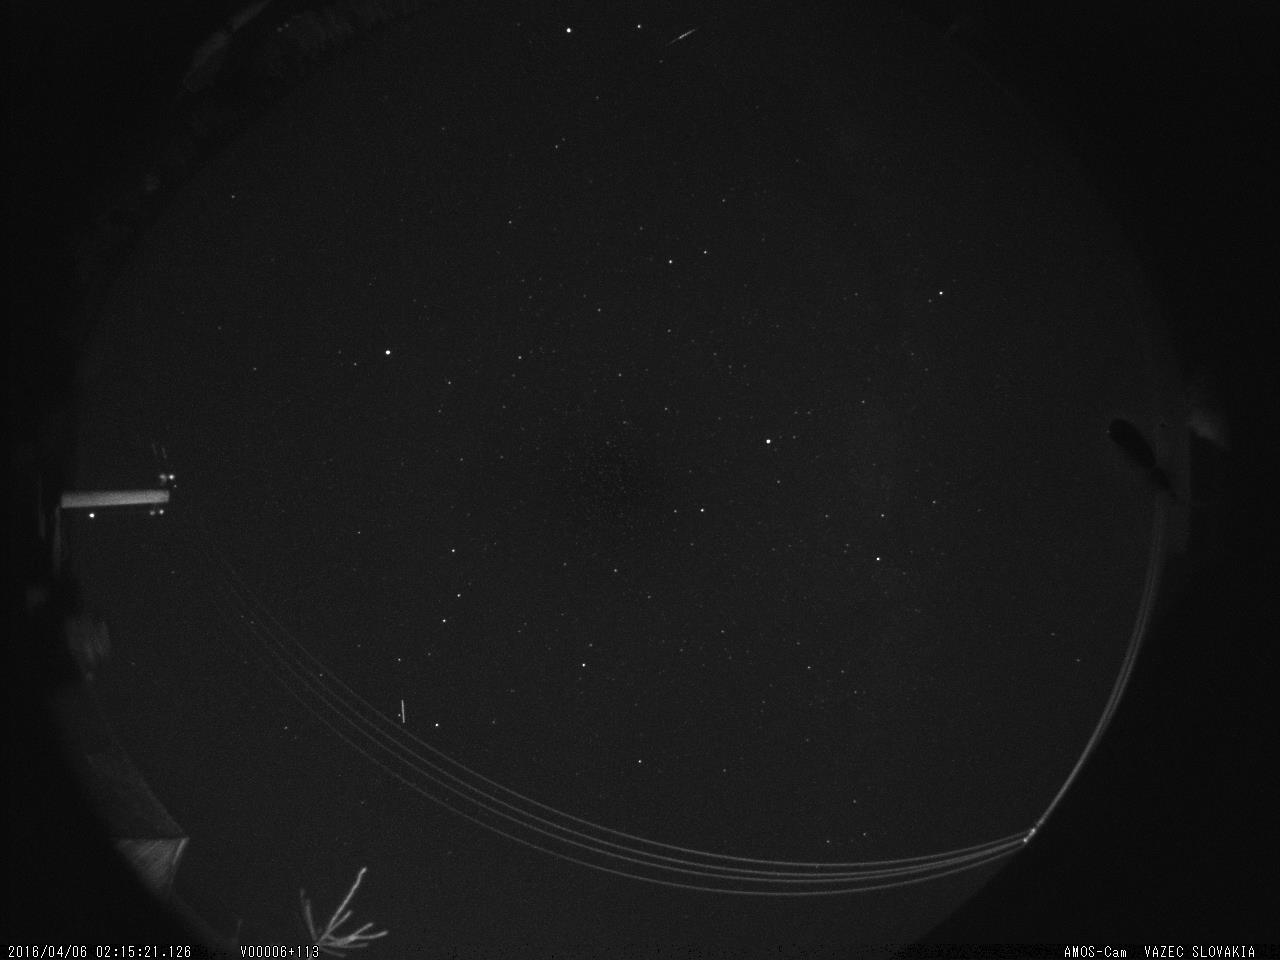meteor: (648, 16, 699, 67)
